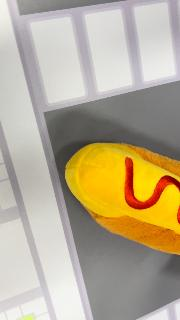hotdog: (65, 142, 180, 256)
